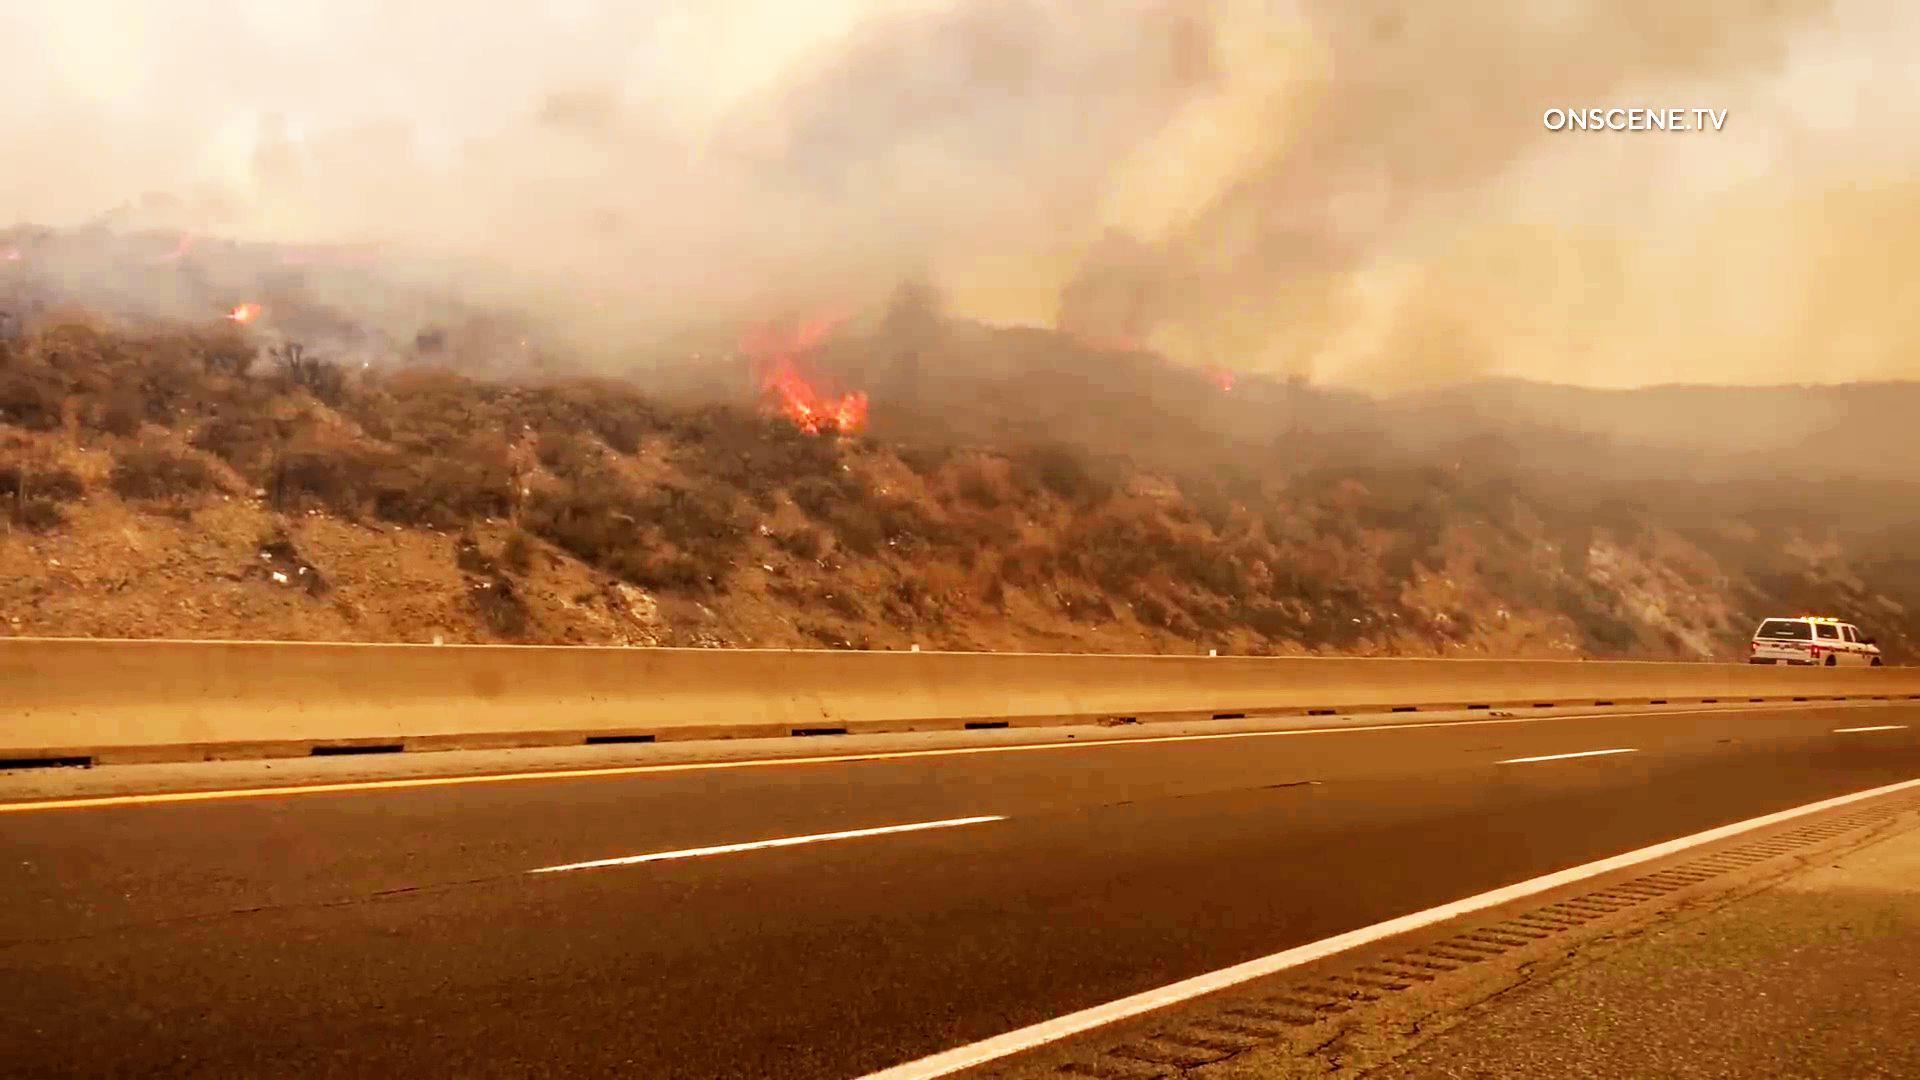fire: (745, 331, 868, 439)
